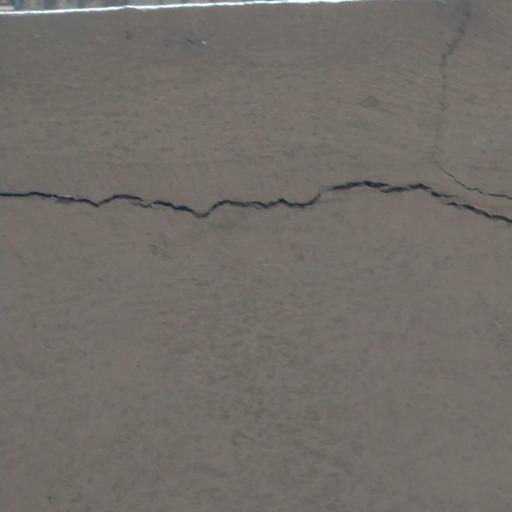major_crack: (0, 126, 512, 250)
